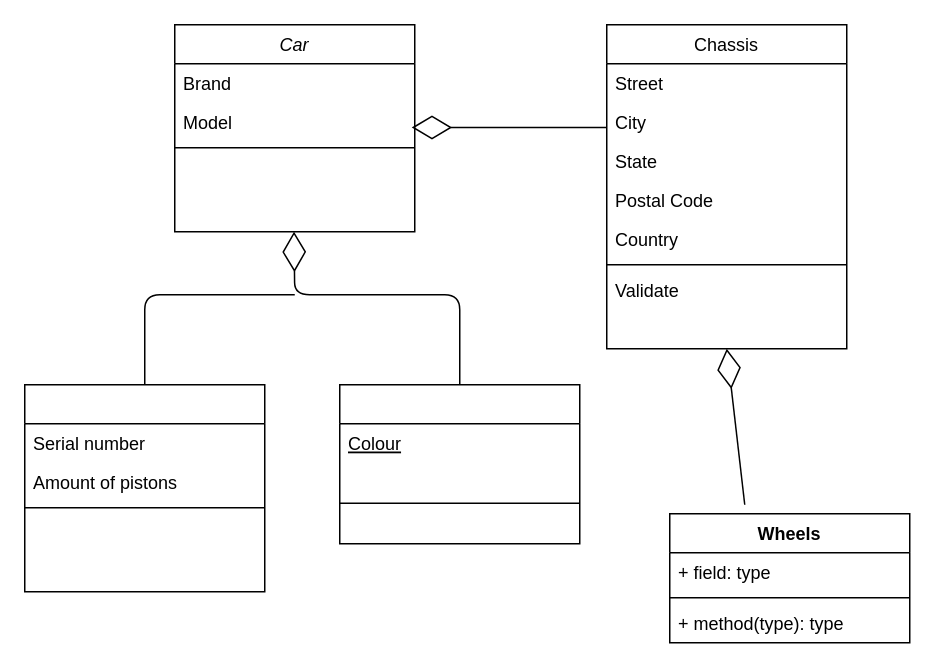
Image size: 935x668. Some labels were removed from this diagram. Here are the shapes that lost their labels. From the top down, the box of each, then its label:
(338, 383, 580, 544): Frame
(23, 383, 265, 592): Engine
